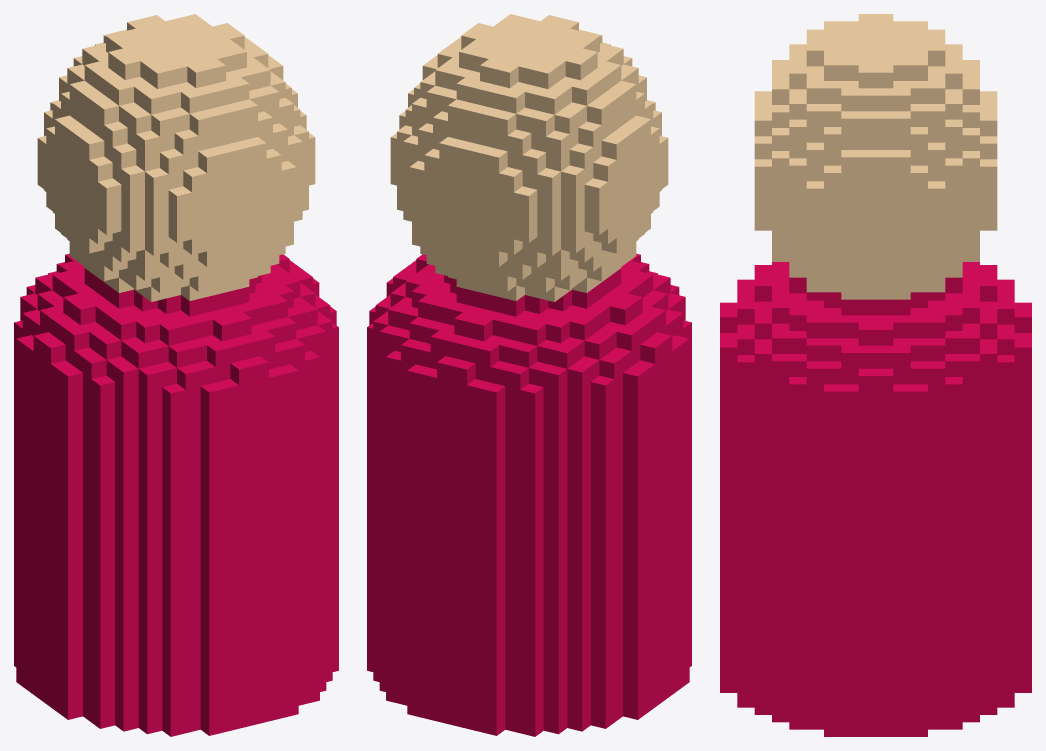
The model's file is Person_2.fbx.
The picture shows the model from 3 angles, left to right: view 1: azimuth 30°, elevation 25°; view 2: azimuth 150°, elevation 25°; view 3: azimuth 270°, elevation 25°; orthographic projection.
Visible parts, largest first — view 1: Person_2; view 2: Person_2; view 3: Person_2.
Part boxes in pixels (left/top/right/bottom): Person_2: left=14, top=14, right=338, bottom=736; Person_2: left=367, top=14, right=691, bottom=736; Person_2: left=720, top=14, right=1031, bottom=736.
Size of the model in its own units: 18 by 40 by 18.
1 material, 1 textured.
